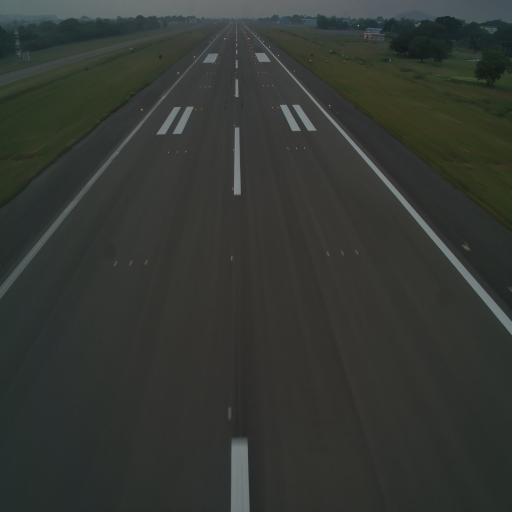off: (462, 236, 472, 256)
on: (338, 246, 346, 260), (324, 248, 332, 261), (128, 257, 136, 268), (229, 252, 235, 264), (354, 248, 360, 260), (113, 257, 117, 269), (143, 258, 148, 267), (302, 143, 306, 152), (231, 185, 236, 192), (295, 144, 299, 151), (175, 149, 180, 154), (232, 147, 236, 153), (167, 149, 170, 156), (286, 145, 289, 152), (185, 148, 188, 154)
